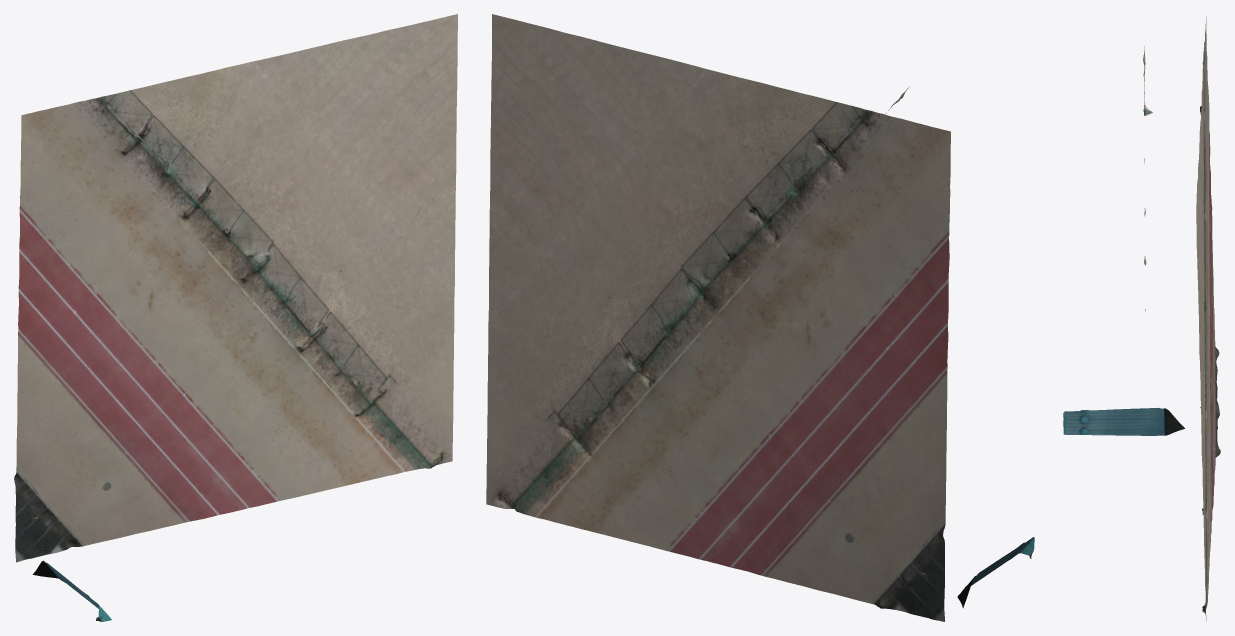
Rendered from Tile_+019_+010.fbx.
3 renders of one model, left to right at view 1: azimuth 30°, elevation 25°; view 2: azimuth 150°, elevation 25°; view 3: azimuth 270°, elevation 25°, orthographic. The views are drawn at different scales.
Visible parts, largest first — view 1: DefaultName; view 2: DefaultName; view 3: DefaultName.
Part boxes in pixels (left/top/right/bottom): DefaultName: left=14, top=14, right=457, bottom=621; DefaultName: left=486, top=14, right=1034, bottom=621; DefaultName: left=1063, top=16, right=1220, bottom=621.
Bounding box in the file's own units: 22.54 × 22.54 × 7.75.
